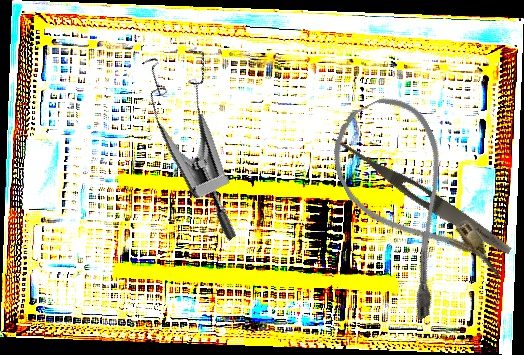Cannula: (315, 84, 506, 324)
Dressing Forceps: (326, 131, 516, 260)
Speculum: (110, 29, 304, 243)
